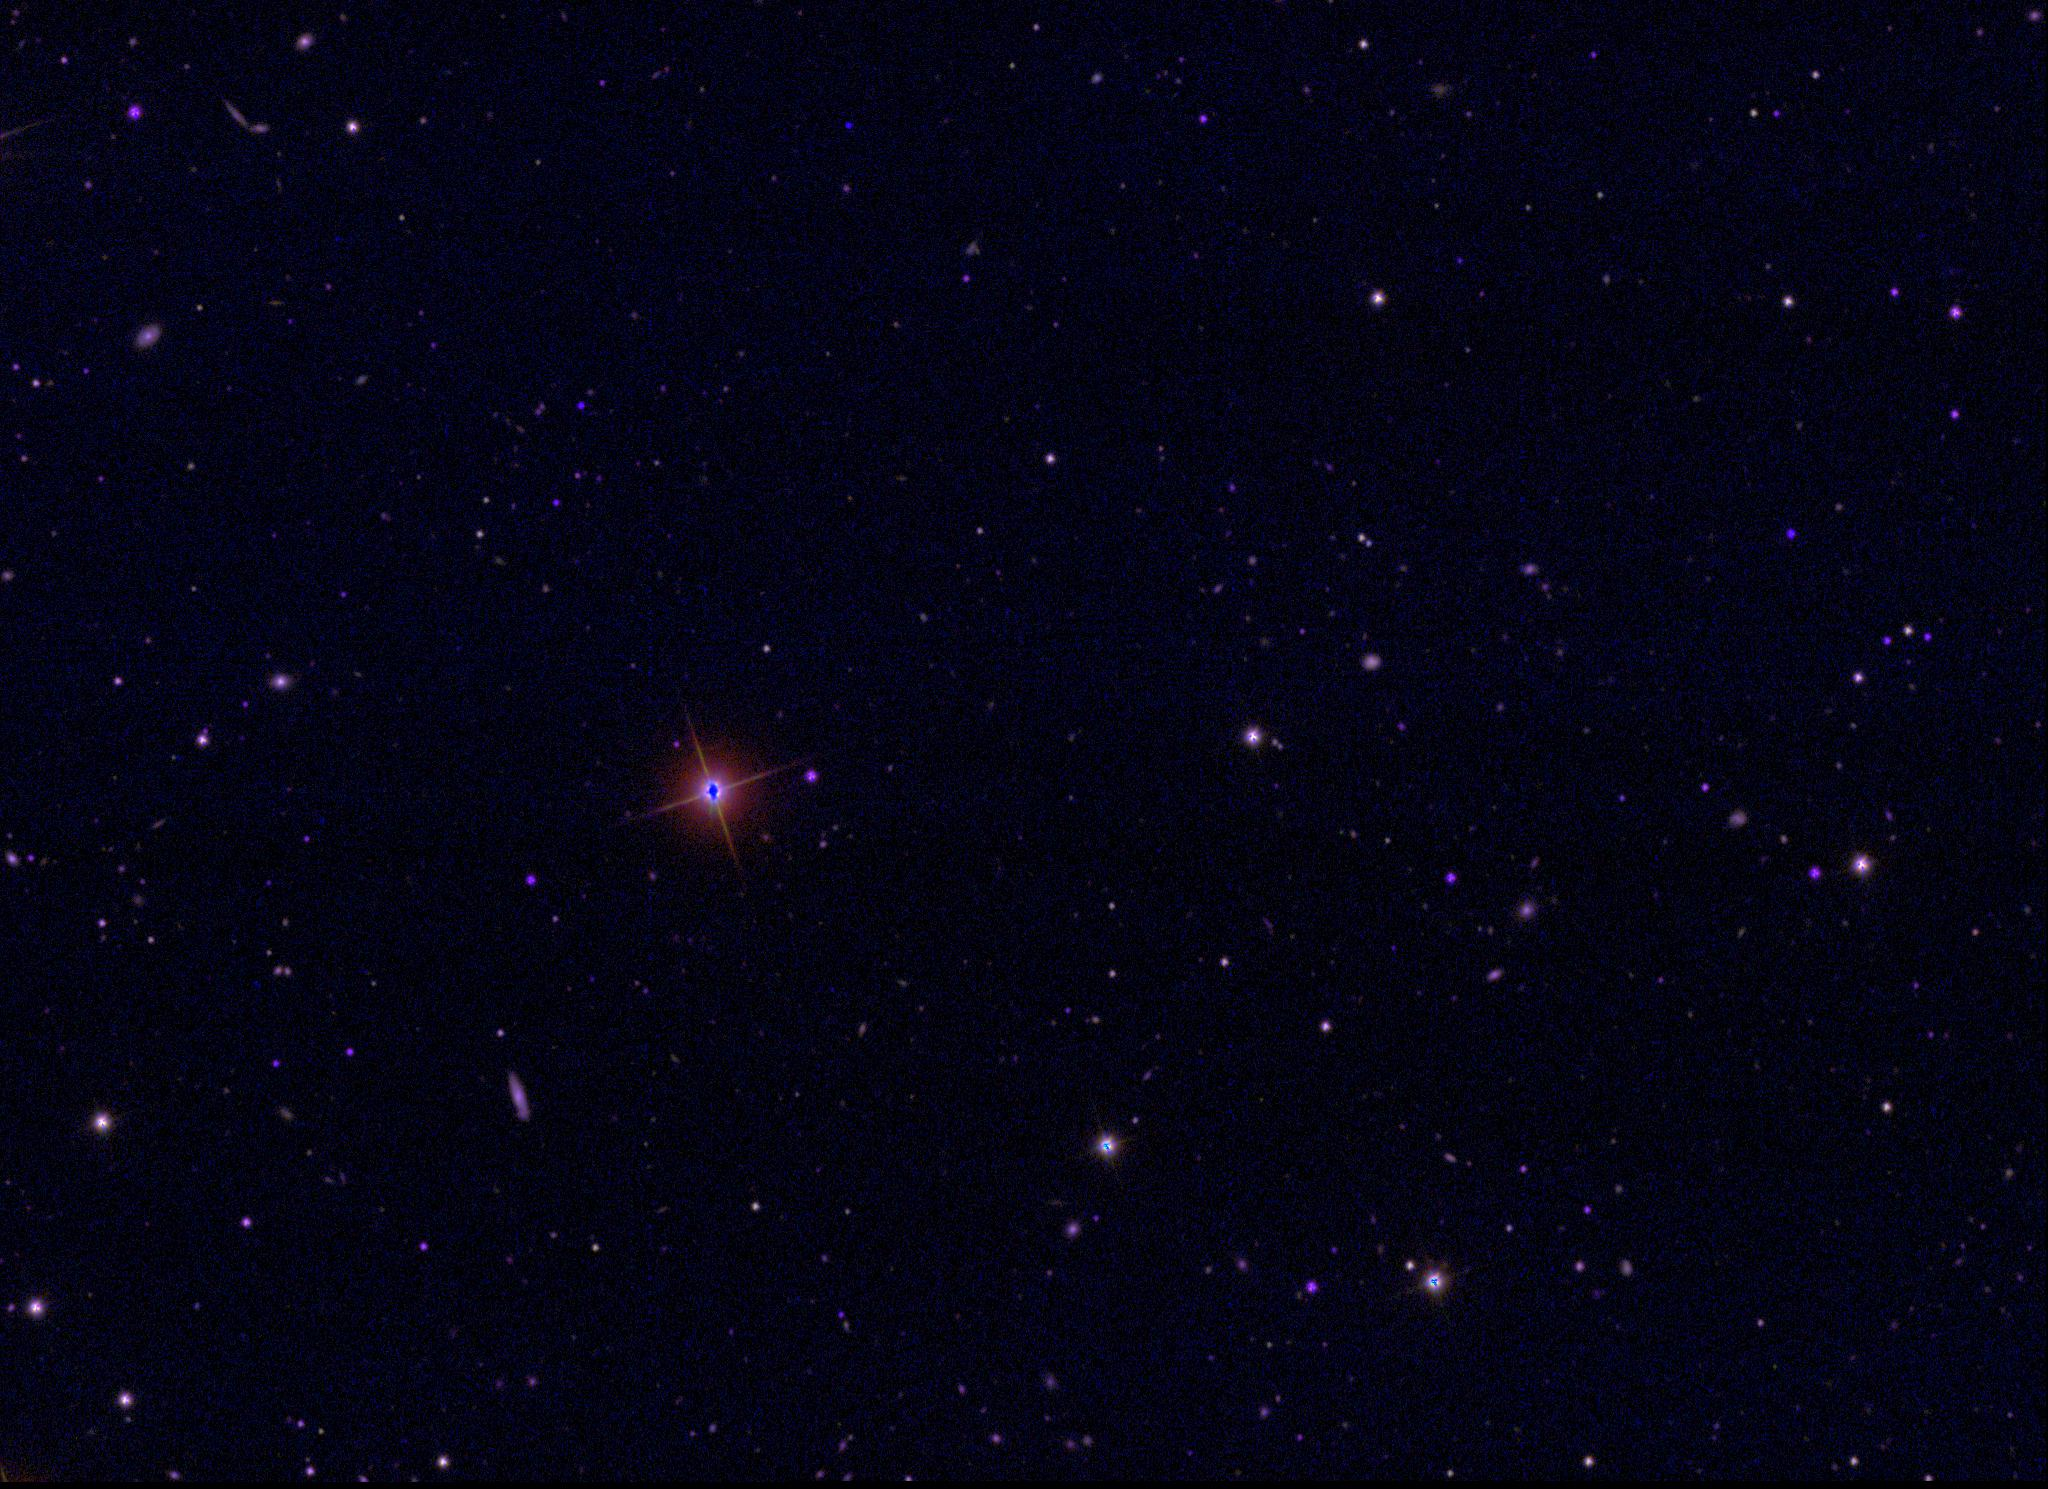L: (841, 118, 855, 130)
